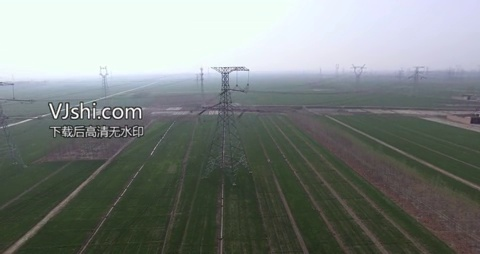tower_body: (200, 58, 257, 189)
tower_foot: (204, 147, 253, 185)
tower_head: (205, 62, 252, 78)
